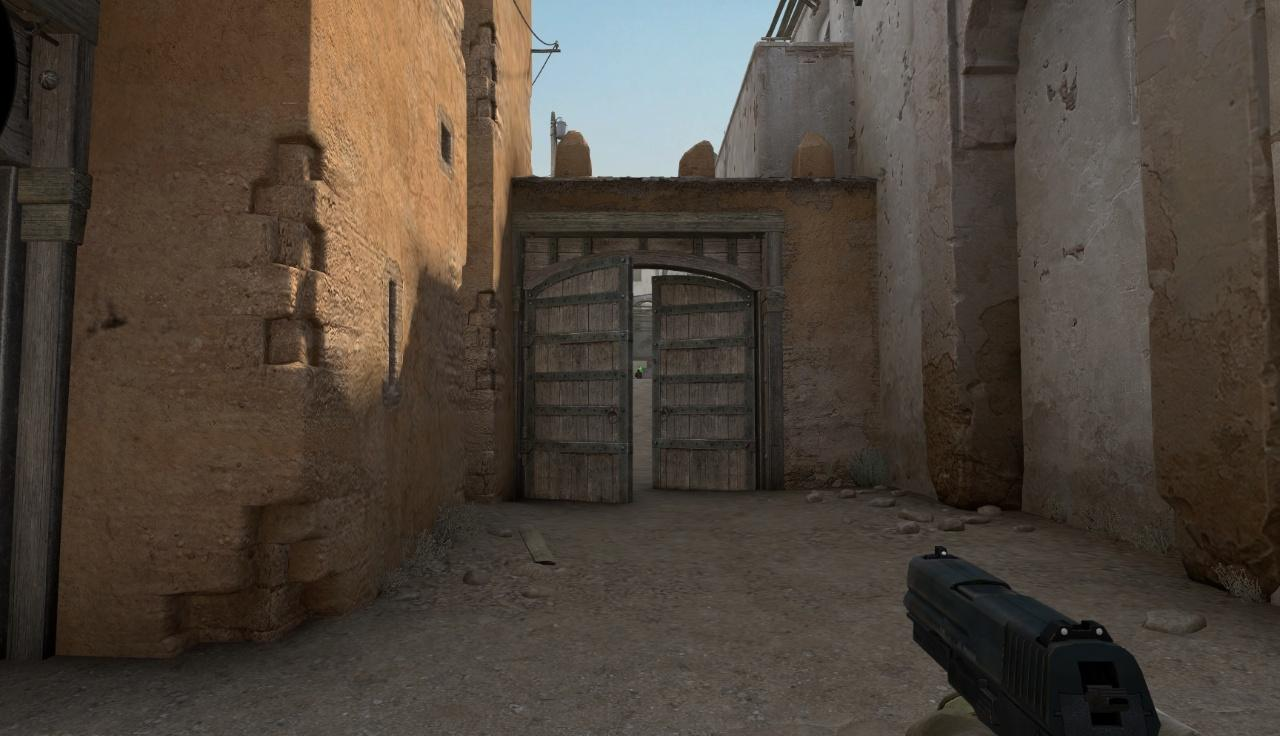pistol: (904, 545, 1162, 736)
tt: (635, 370, 642, 379)
